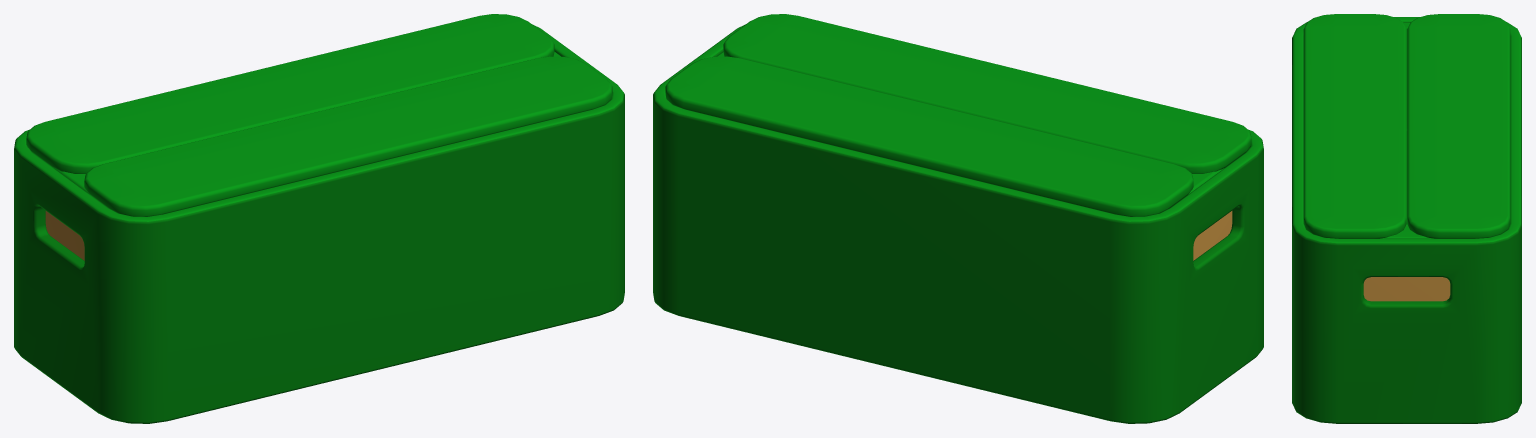
The picture shows the model from 3 angles, left to right: view 1: azimuth 30°, elevation 25°; view 2: azimuth 150°, elevation 25°; view 3: azimuth 270°, elevation 25°; orthographic projection. The views are drawn at different scales.
Visible parts, largest first — view 1: box10_color, top1_R, top1_L, box10_inner; view 2: box10_color, top1_L, top1_R, box10_inner; view 3: box10_color, top1_L, top1_R, box10_inner, top2_R, top2_L.
Part boxes in pixels (x1,y1,x2,y2): box10_color: (14, 24, 624, 423); top1_R: (84, 56, 612, 216); top1_L: (26, 14, 554, 173); box10_inner: (45, 211, 84, 260); box10_color: (653, 24, 1263, 423); top1_L: (665, 56, 1193, 216); top1_R: (723, 14, 1251, 173); box10_inner: (1193, 211, 1232, 260); box10_color: (1292, 17, 1521, 423); top1_L: (1407, 14, 1510, 238); top1_R: (1303, 14, 1406, 238); box10_inner: (1363, 277, 1450, 301); top2_R: (1380, 131, 1433, 238); top2_L: (1404, 23, 1409, 130).
Size of the model in its own units: 24.69 by 9.65 by 10.56.
